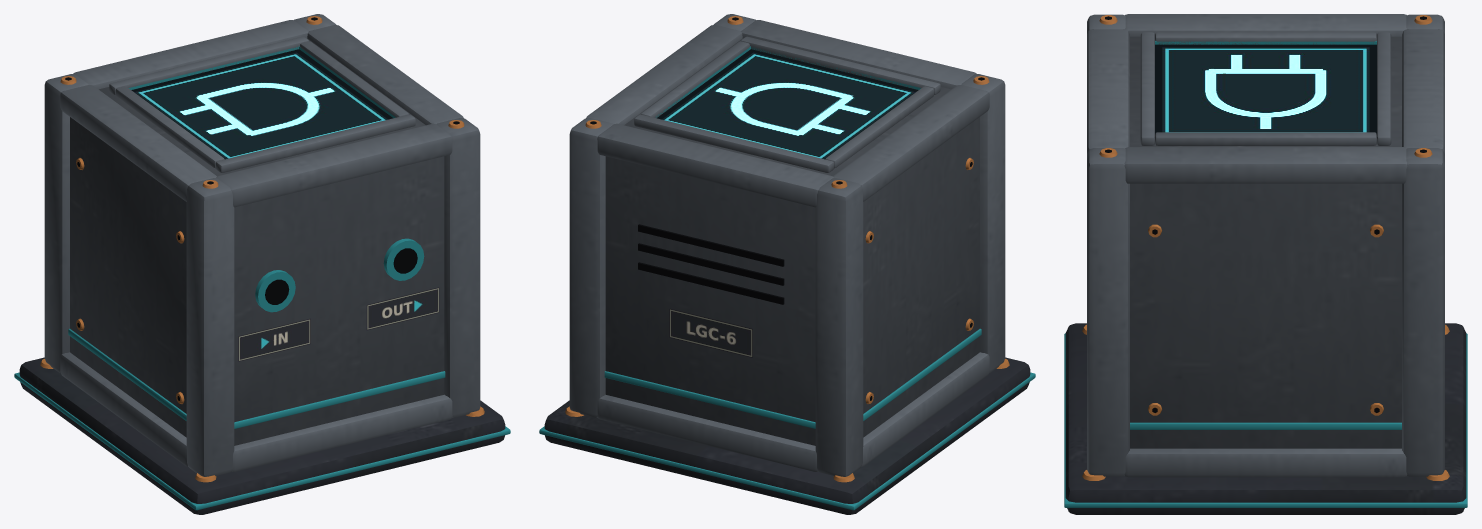
File: logic_gate.glb
The picture shows the model from 3 angles, left to right: view 1: azimuth 30°, elevation 25°; view 2: azimuth 150°, elevation 25°; view 3: azimuth 270°, elevation 25°; orthographic projection. The views are drawn at different scales.
Visible parts, largest first — view 1: Body, Face_and; view 2: Body, Face_and; view 3: Body, Face_and.
Part boxes in pixels (bbox=[...]): Body: bbox=[14, 14, 510, 514]; Face_and: bbox=[135, 52, 387, 158]; Body: bbox=[539, 14, 1035, 514]; Face_and: bbox=[662, 52, 914, 158]; Body: bbox=[1064, 14, 1467, 514]; Face_and: bbox=[1162, 47, 1369, 132].
Size of the model in its own units: 0.2256 by 0.216 by 0.2256.
Materials: 17 (13 with a texture image).
